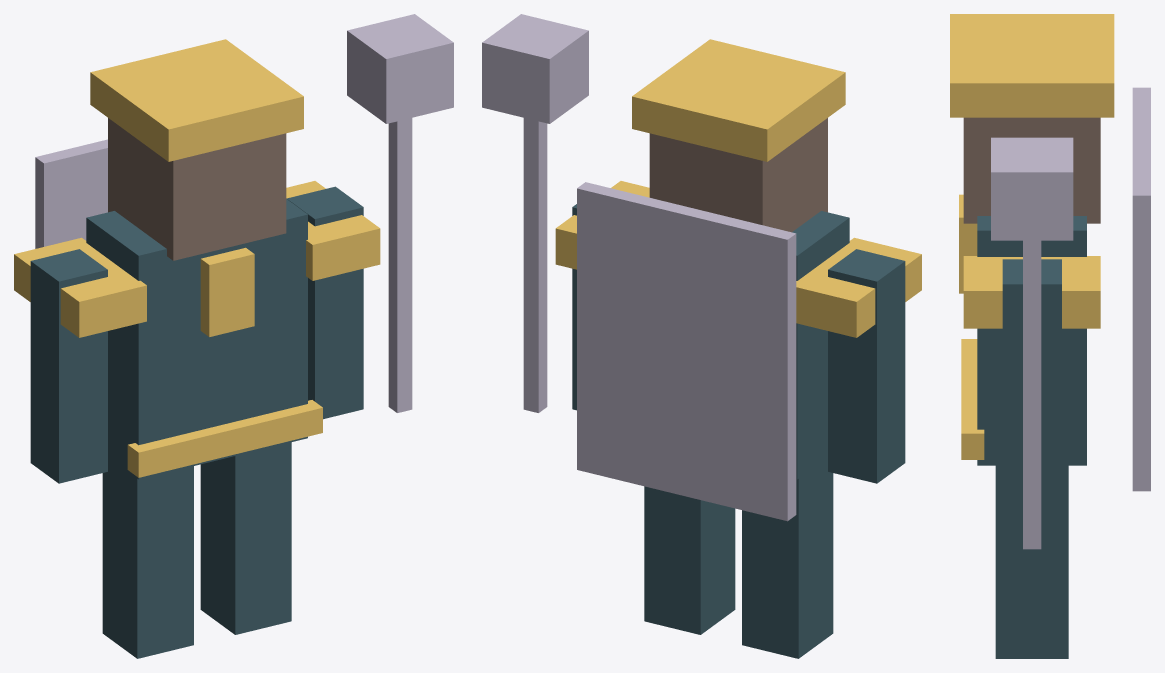
Rendered from 20_eryk_ironwake_broker_of_hollow.glb.
3 renders of one model, left to right at view 1: azimuth 30°, elevation 25°; view 2: azimuth 150°, elevation 25°; view 3: azimuth 270°, elevation 25°, orthographic. The views are drawn at different scales.
Visible parts, largest first — view 1: Eryk Ironwake, Broker of Hollow; view 2: Eryk Ironwake, Broker of Hollow; view 3: Eryk Ironwake, Broker of Hollow.
Part boxes in pixels (bbox=[...]): Eryk Ironwake, Broker of Hollow: bbox=[14, 14, 453, 658]; Eryk Ironwake, Broker of Hollow: bbox=[482, 14, 921, 658]; Eryk Ironwake, Broker of Hollow: bbox=[950, 14, 1150, 658].
Bounding box in the file's own units: 1.05 × 1.4 × 0.4462.
